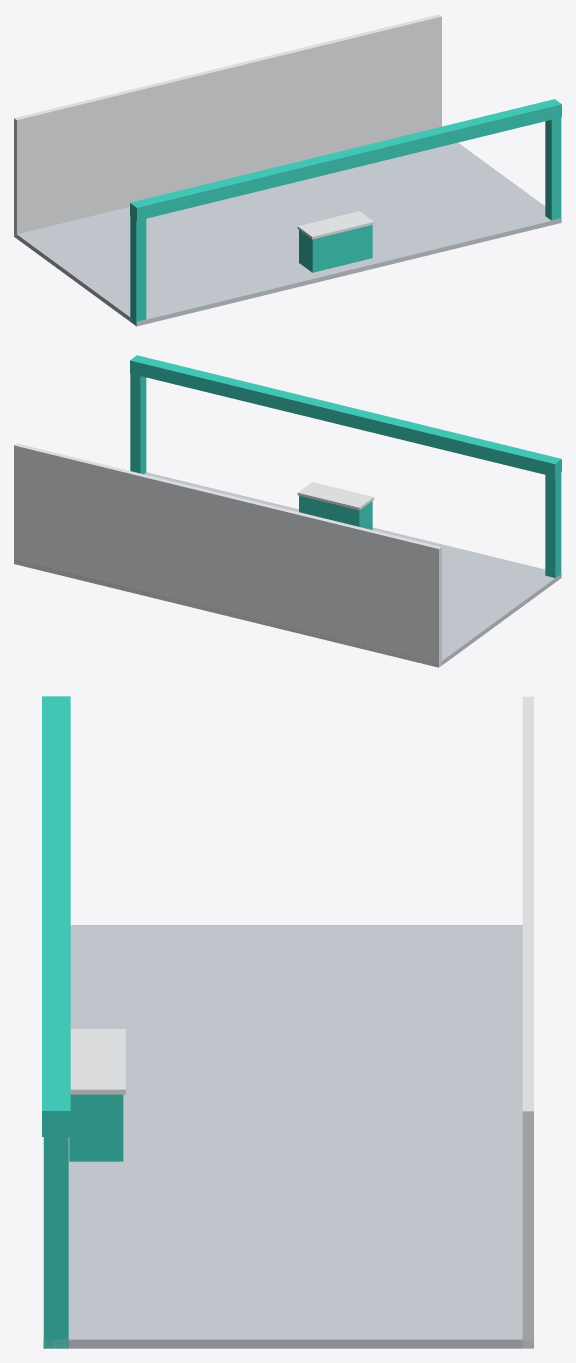
The picture shows the model from 3 angles, top to bottom: view 1: azimuth 30°, elevation 25°; view 2: azimuth 150°, elevation 25°; view 3: azimuth 270°, elevation 25°; orthographic projection. The views are drawn at different scales.
Visible parts, largest first — view 1: Exhibition Booth Concept; view 2: Exhibition Booth Concept; view 3: Exhibition Booth Concept.
Part boxes in pixels (left/top/right/bottom): Exhibition Booth Concept: left=14, top=14, right=561, bottom=326; Exhibition Booth Concept: left=14, top=355, right=561, bottom=667; Exhibition Booth Concept: left=42, top=696, right=533, bottom=1348.
Size of the model in its own units: 12 by 3.2 by 6.02.
